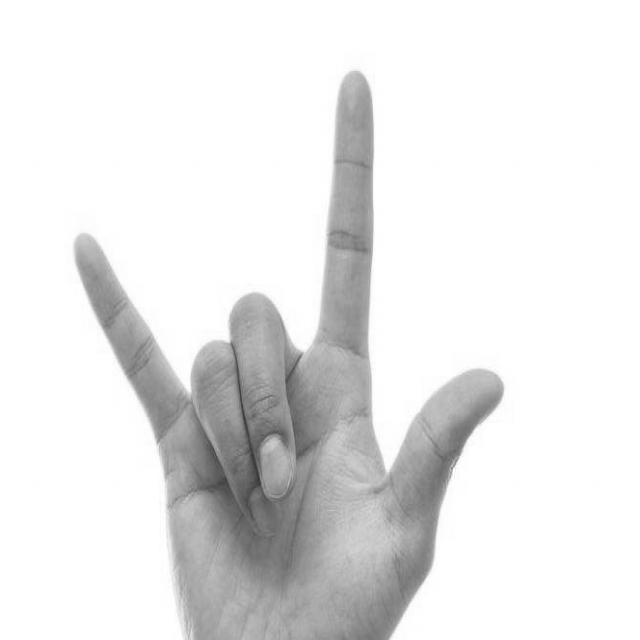i love you: (66, 59, 508, 640)
